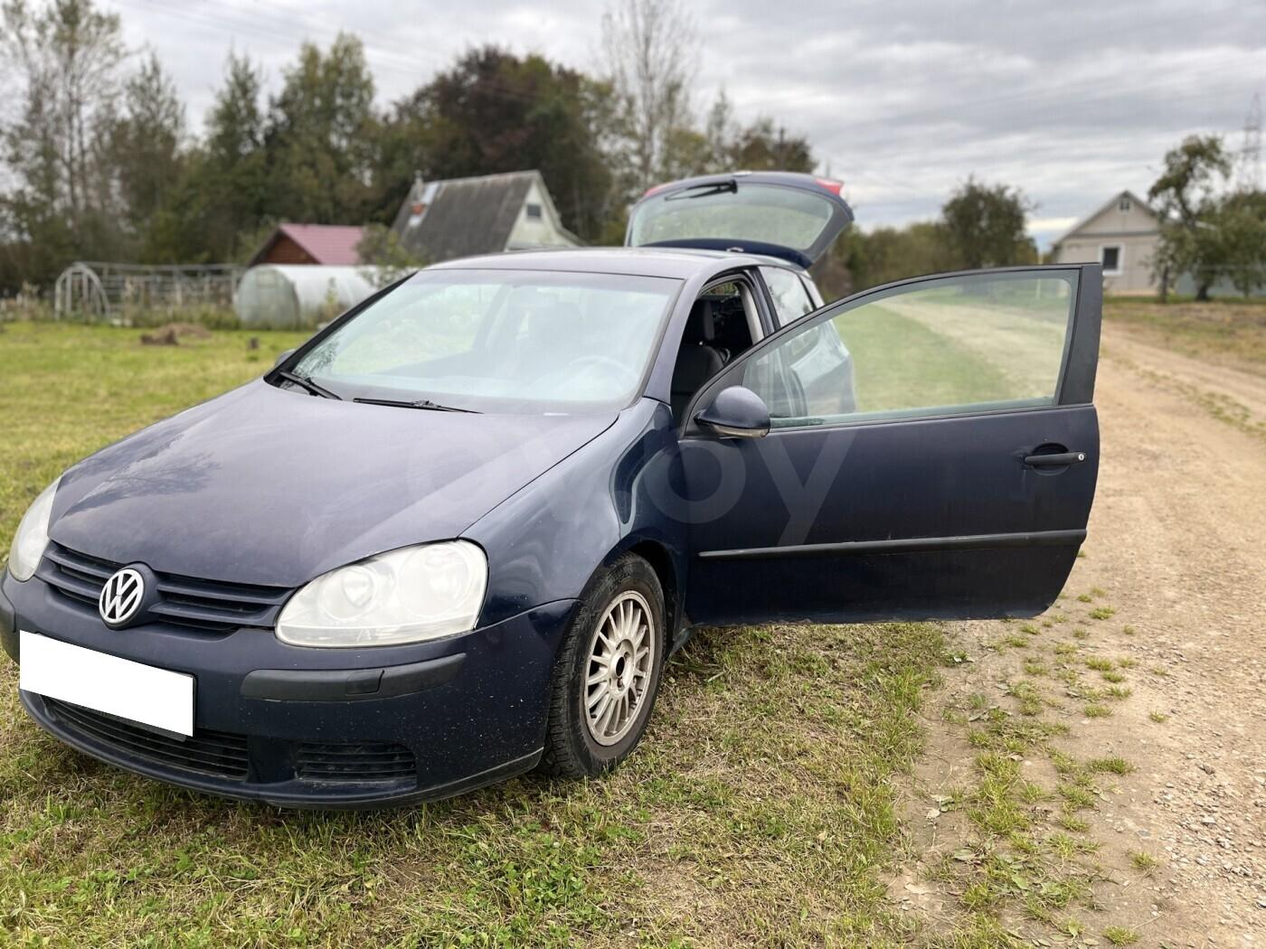Golf_2003-2009: (9, 255, 1115, 814)
